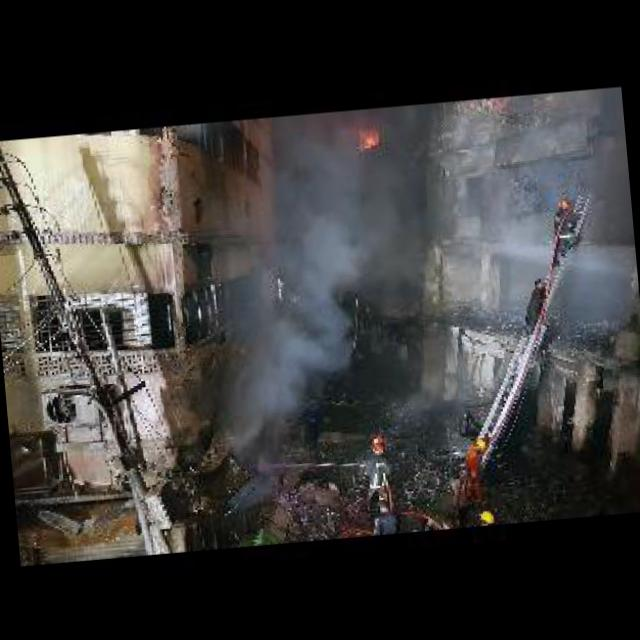fire: (346, 125, 389, 153)
smoke: (236, 170, 415, 372), (203, 315, 344, 469)
